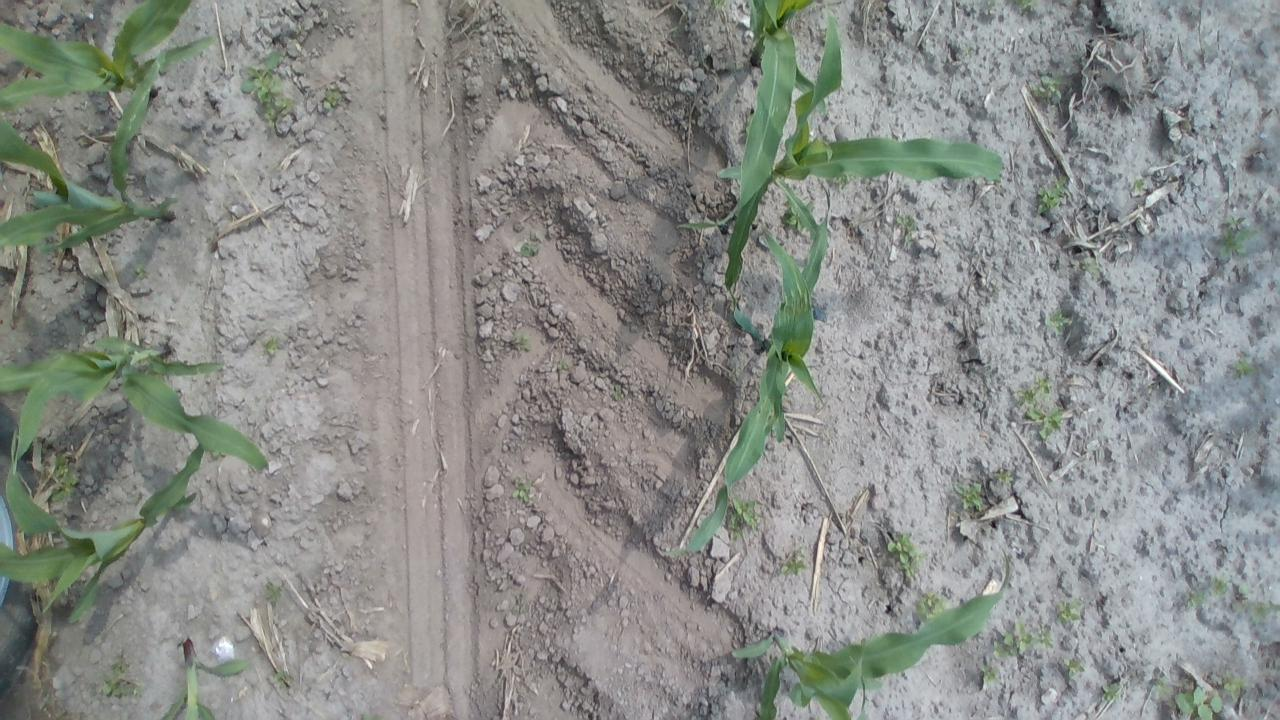Maize: (674, 9, 1008, 234), (662, 172, 834, 564), (729, 545, 1012, 720), (0, 432, 216, 628), (0, 332, 279, 478), (0, 46, 185, 244), (718, 0, 826, 293), (0, 0, 223, 106), (148, 627, 252, 720)
Weeds: (238, 46, 298, 129), (1018, 377, 1066, 440), (992, 620, 1056, 660), (44, 449, 84, 507), (100, 655, 148, 703), (1028, 176, 1076, 222), (886, 530, 932, 578), (1218, 213, 1264, 259), (726, 494, 767, 538), (1173, 686, 1221, 720), (1024, 68, 1068, 104), (910, 586, 946, 625), (952, 481, 989, 516), (770, 546, 811, 576), (894, 208, 920, 250), (1230, 354, 1264, 386), (781, 204, 816, 234), (1053, 598, 1087, 627), (316, 86, 346, 118), (508, 472, 536, 506), (1251, 597, 1280, 628), (973, 663, 1006, 690), (1040, 307, 1074, 333), (1215, 674, 1247, 699), (1056, 652, 1085, 679), (516, 231, 540, 263), (259, 331, 286, 358), (508, 329, 536, 354), (990, 469, 1020, 492), (270, 666, 296, 691), (508, 593, 532, 620), (130, 260, 156, 284), (1184, 586, 1208, 611), (1100, 678, 1126, 701), (1152, 675, 1174, 702), (264, 579, 286, 606), (1078, 252, 1104, 274), (551, 352, 574, 376), (1233, 582, 1252, 610), (1210, 576, 1232, 600), (607, 379, 627, 404), (1010, 0, 1039, 17), (1130, 175, 1150, 196), (958, 39, 978, 58), (358, 709, 387, 720), (710, 0, 734, 11)
